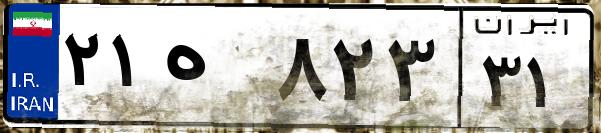1: (525, 38, 570, 115), (110, 28, 158, 98)
2: (330, 28, 385, 110), (57, 26, 110, 100)
3: (385, 28, 445, 110), (475, 38, 525, 113)
8: (270, 28, 330, 110)
ه: (158, 20, 270, 120)
